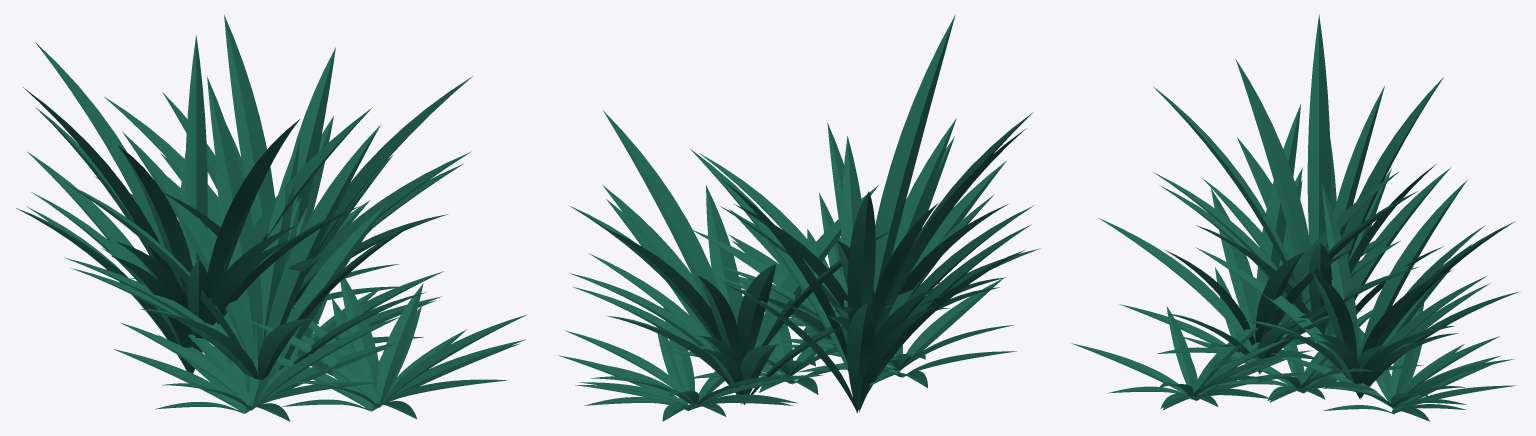
Rendered from plant.dae.
3 views of the same model, side by side, from view 1: azimuth 30°, elevation 25°; view 2: azimuth 150°, elevation 25°; view 3: azimuth 270°, elevation 25° (orthographic). The views are drawn at different scales.
Visible parts, largest first — view 1: Group_4_1_2 (×28), Group_4 (×25); view 2: Group_4_1_2 (×35), Group_4 (×21); view 3: Group_4_1_2 (×31), Group_4 (×22).
Part boxes in pixels (box(x1,y1,x2,y2)): Group_4_1_2 (×28): box(16, 35, 426, 379); Group_4 (×25): box(104, 14, 527, 413); Group_4_1_2 (×35): box(558, 15, 1034, 413); Group_4 (×21): box(569, 110, 1016, 404); Group_4_1_2 (×31): box(1098, 14, 1515, 413); Group_4 (×22): box(1071, 179, 1520, 399).
Size of the model in its own units: 2676 by 2825 by 1912.
